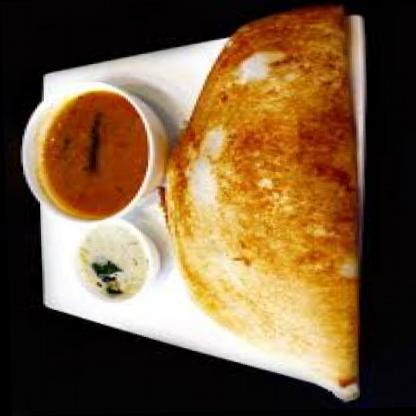dosa: (151, 5, 362, 391)
